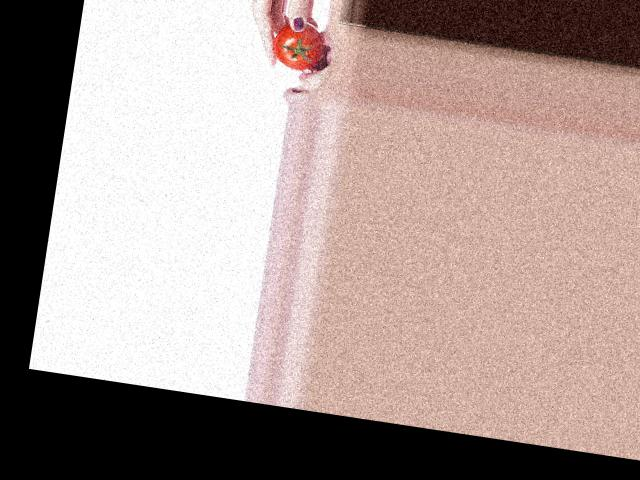tomato: (269, 17, 325, 73)
